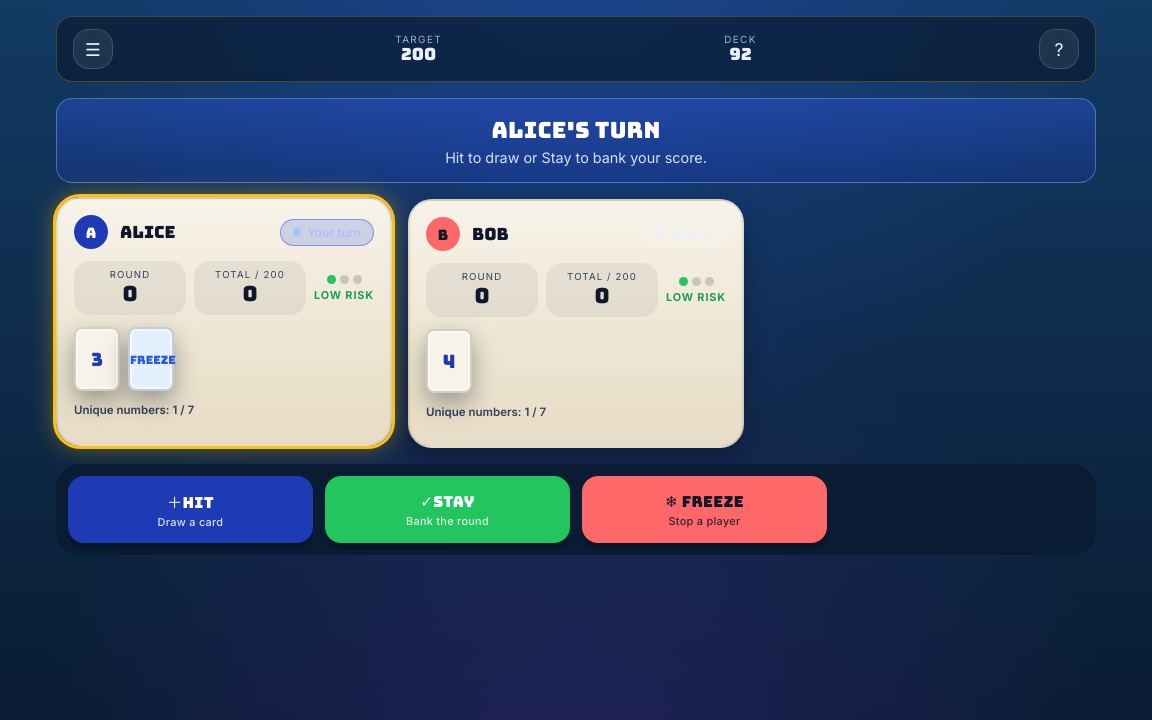
Test: Frontend app functional behavior › supports target selection presentation and cancel behavior for Freeze
Expected: the heading "Alice's turn" is shown, [492,115,661,145]
Click the button "❄ Freeze Stop a player".
click(704, 510)  # box [582,476,827,543]
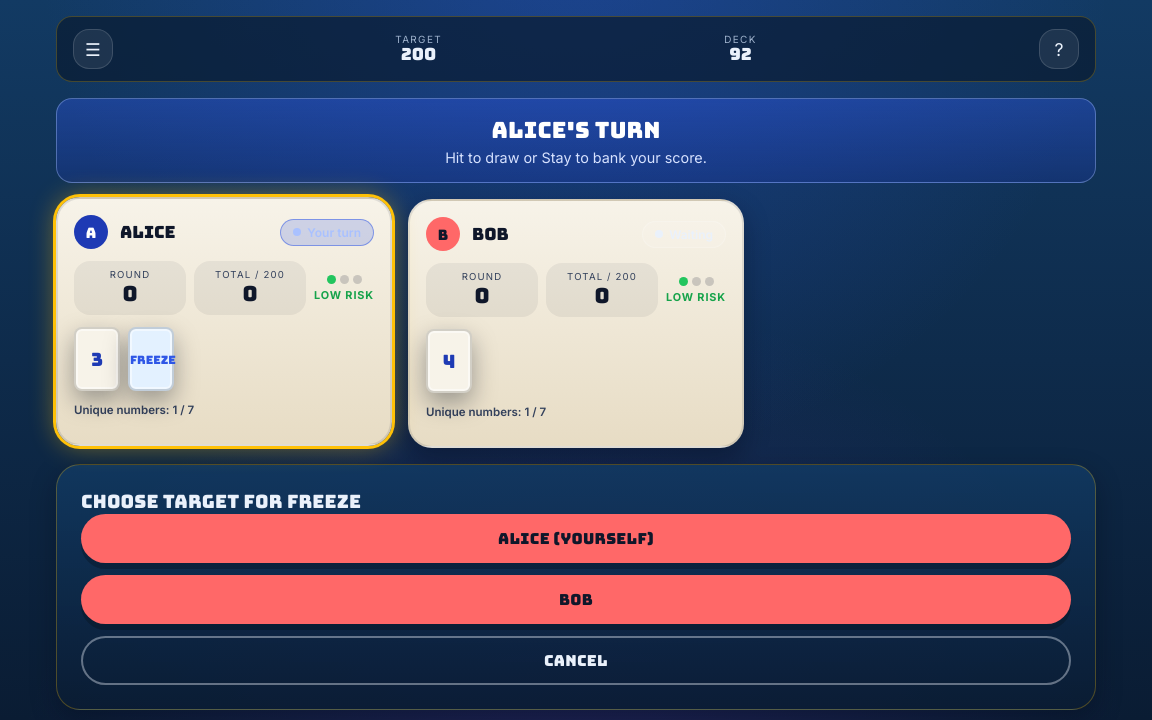
Now the heading "Choose target for Freeze" is shown, box [81,489,361,514]
Click the button "Cancel".
click(576, 660)  # box [81,636,1071,685]
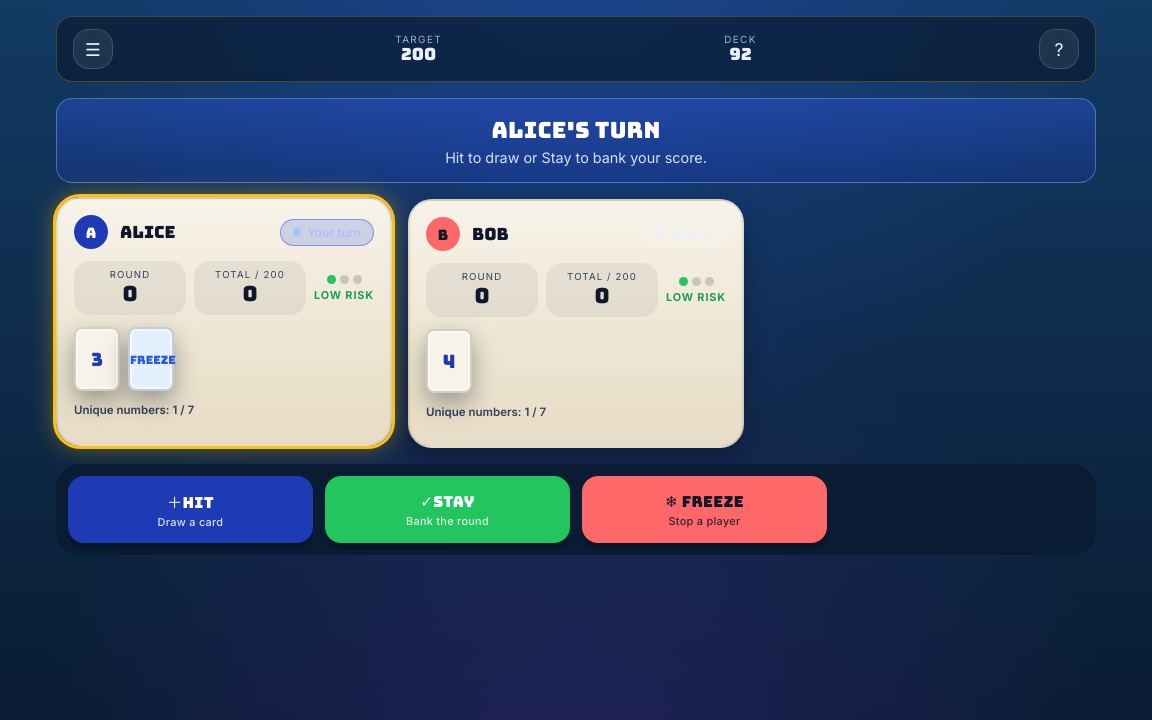
Now the heading "Choose target for Freeze" is gone
Now the button "＋Hit Draw a card" is shown, box [68,476,313,543]
